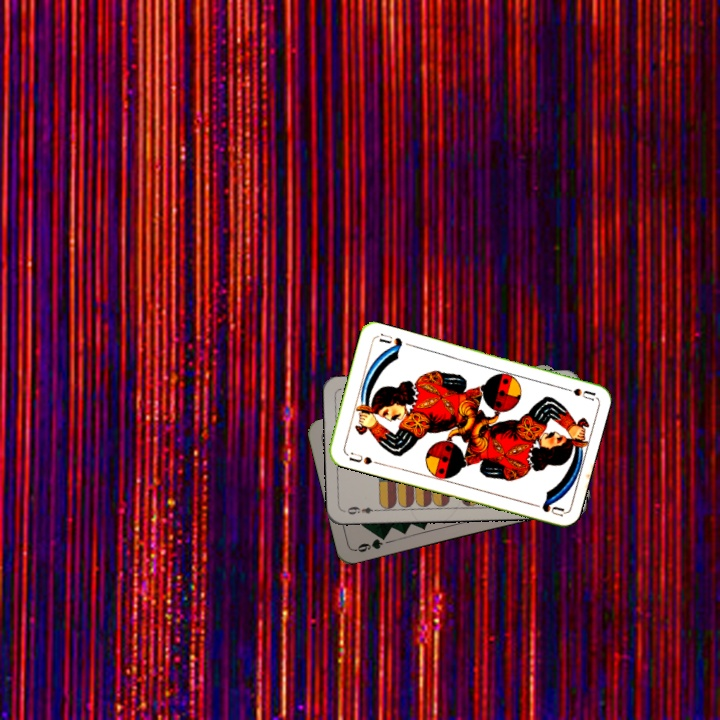E9: (341, 502, 382, 517)
G9: (351, 531, 390, 555)
SU: (556, 382, 597, 403), (342, 448, 382, 467)
